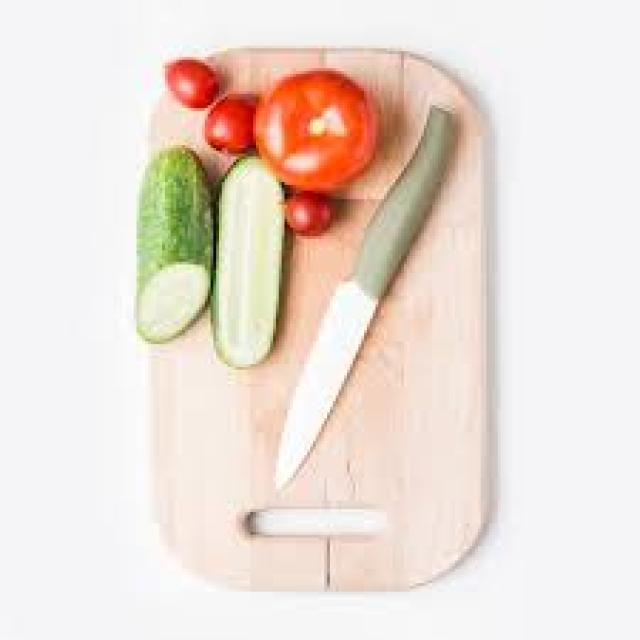Knife: (270, 102, 458, 492)
